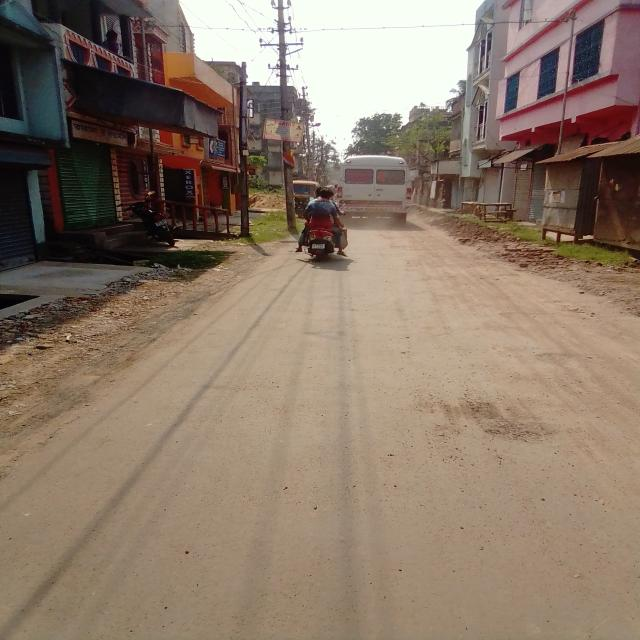Auto: (293, 180, 318, 218)
Traveller: (337, 155, 410, 221)
Two Wheeler: (305, 229, 335, 256)
